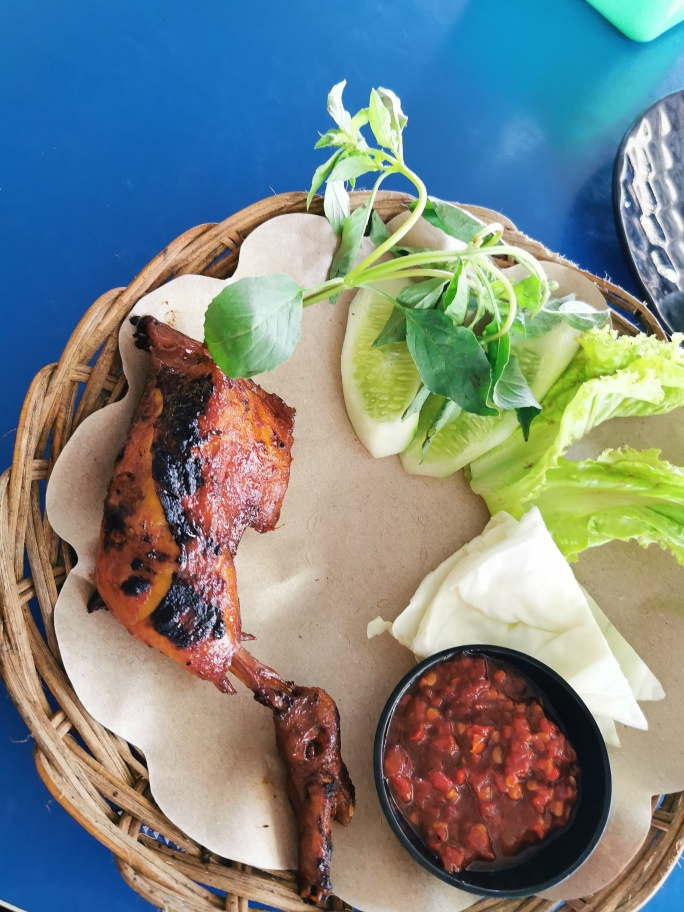ayam bakar: (77, 308, 387, 905)
